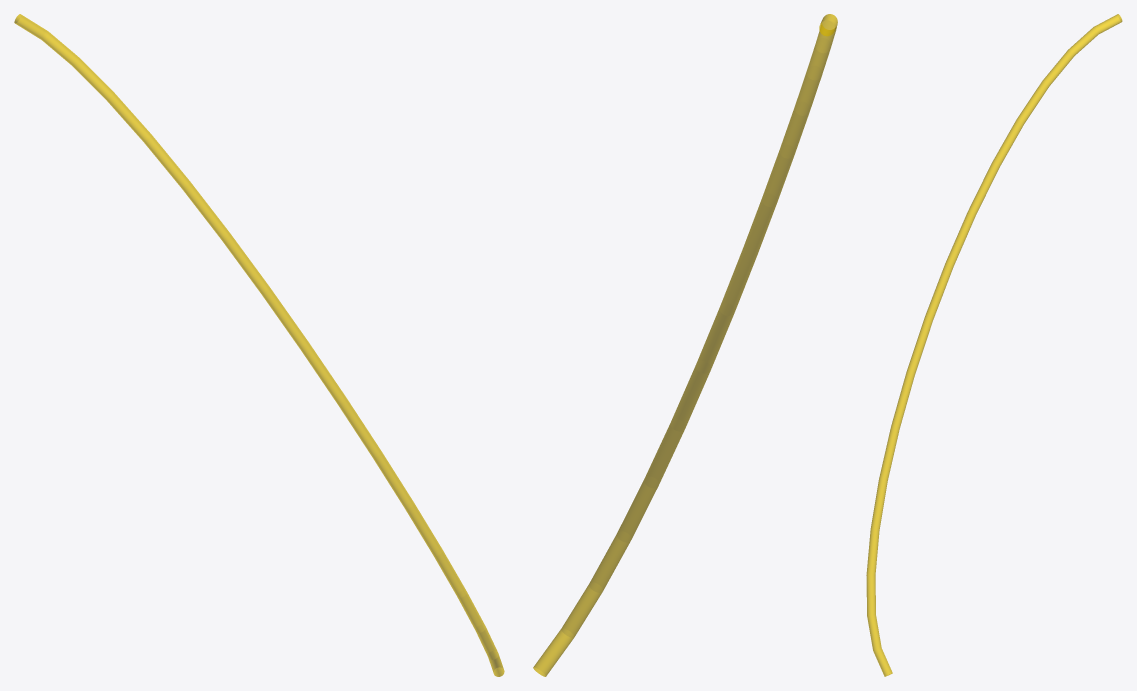
The model's file is Event_15818458_track_39.fbx.
The picture shows the model from 3 angles, left to right: view 1: azimuth 30°, elevation 25°; view 2: azimuth 150°, elevation 25°; view 3: azimuth 270°, elevation 25°; orthographic projection. The views are drawn at different scales.
Parts seen in each view (by area): view 1: Model; view 2: Model; view 3: Model.
Boxes of the visible parts, x1,y1,x2,y2 form: Model: (14,14,504,676); Model: (533,14,837,676); Model: (866,14,1122,676).
Size of the model in its own units: 1.46 by 2.56 by 1.13.
